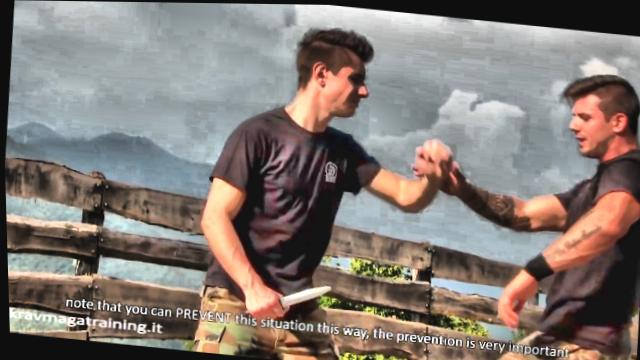knife: (237, 269, 338, 329)
